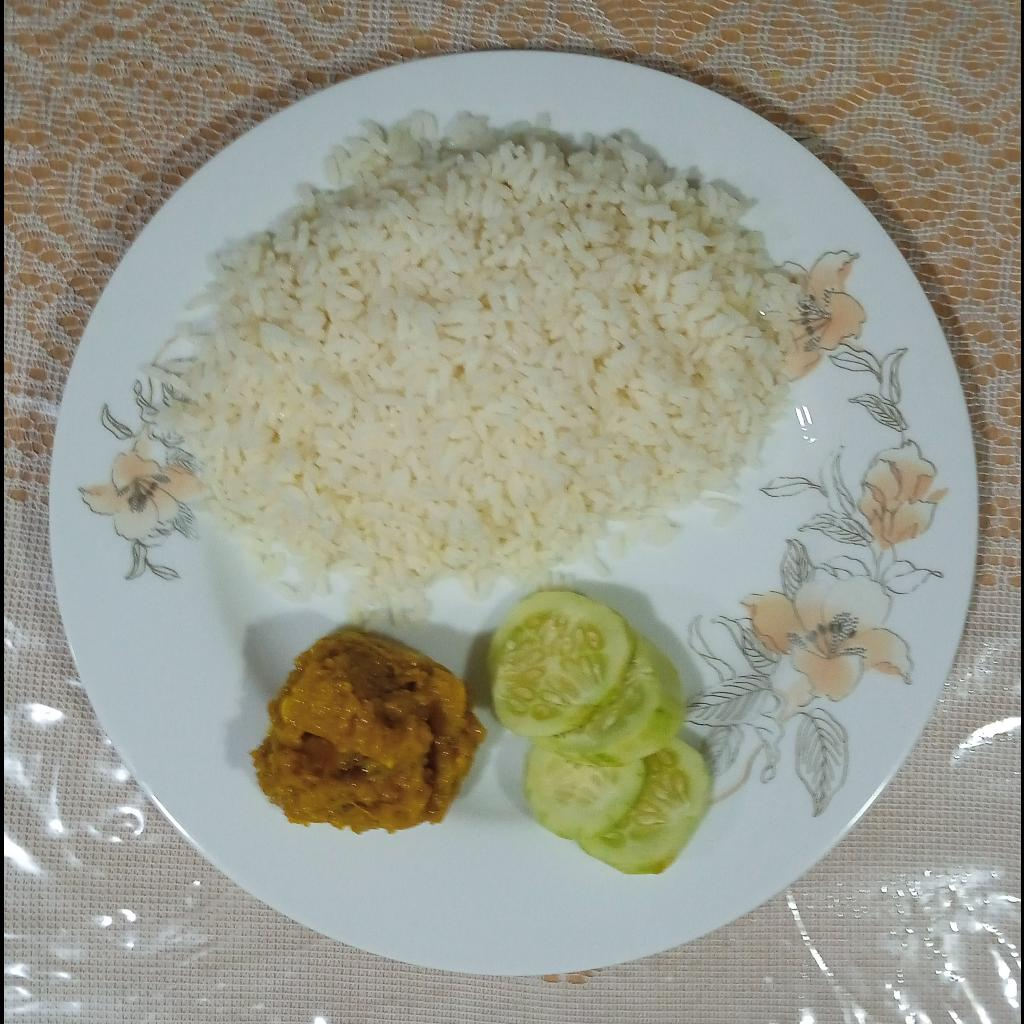cucumber: (488, 592, 710, 874)
kumra-vaji: (249, 624, 488, 833)
rice: (145, 112, 808, 636)
